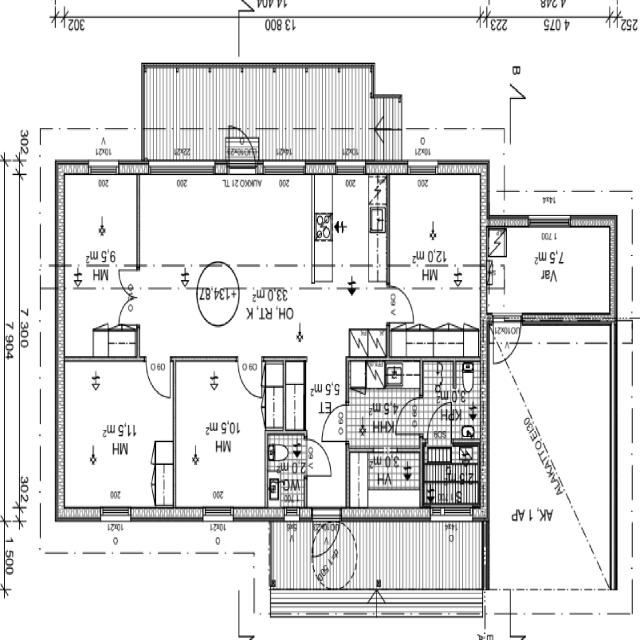door: (492, 314, 522, 361), (386, 281, 417, 325), (312, 516, 339, 562), (145, 354, 172, 399), (321, 400, 349, 442), (237, 355, 263, 398), (306, 438, 333, 477), (426, 400, 451, 442), (395, 398, 420, 437), (116, 293, 138, 327), (118, 264, 138, 295), (364, 588, 382, 612), (373, 115, 385, 133)
window: (148, 160, 216, 176), (261, 157, 306, 178), (526, 212, 572, 228), (406, 158, 440, 176), (440, 503, 474, 520), (335, 158, 367, 176), (202, 505, 234, 522), (88, 159, 120, 175), (100, 506, 132, 520), (141, 260, 164, 270), (629, 240, 636, 270), (629, 496, 636, 526), (629, 554, 636, 583)
zone: (140, 171, 385, 355), (387, 171, 483, 357), (61, 358, 175, 510), (62, 172, 139, 357), (175, 359, 268, 508), (490, 223, 616, 317), (421, 356, 485, 439), (347, 444, 423, 509), (347, 390, 420, 448), (423, 440, 483, 504), (266, 430, 308, 505), (382, 358, 420, 400)
